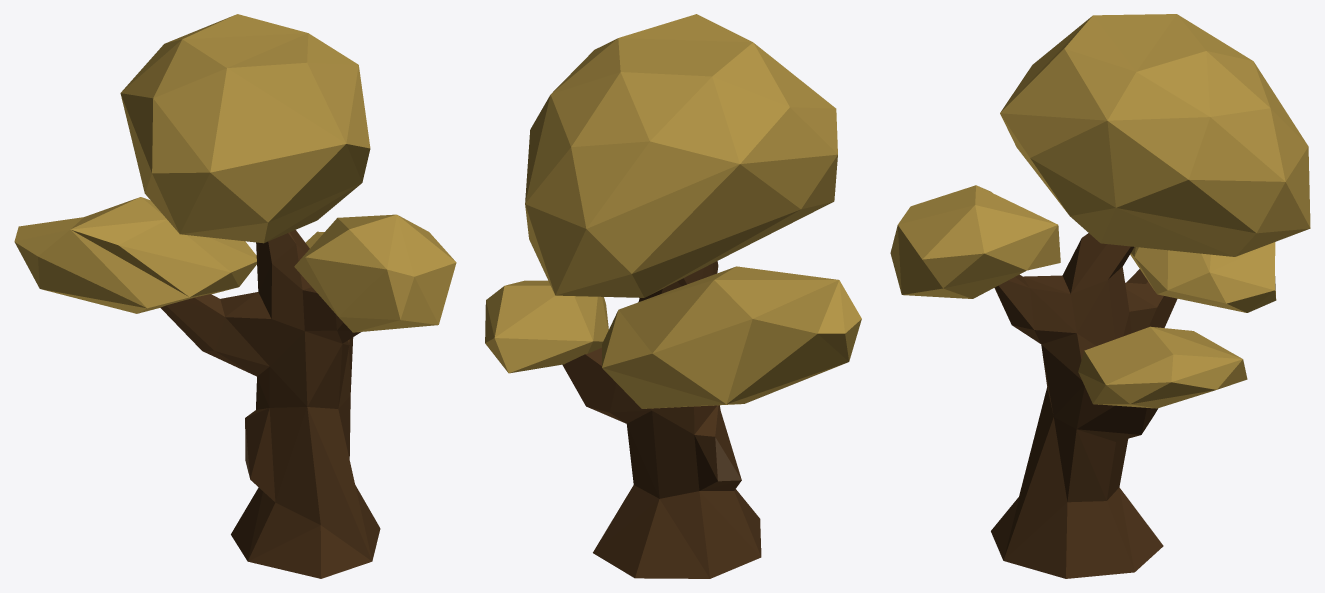
Rendered from co_Tree14_B.fbx.
The picture shows the model from 3 angles, left to right: view 1: azimuth 30°, elevation 25°; view 2: azimuth 150°, elevation 25°; view 3: azimuth 270°, elevation 25°; orthographic projection. The views are drawn at different scales.
Visible parts, largest first — view 1: Tree14_B_LOD0; view 2: Tree14_B_LOD0; view 3: Tree14_B_LOD0.
Boxes of the visible parts, left/top/right/bottom form: Tree14_B_LOD0: left=14, top=14, right=456, bottom=578; Tree14_B_LOD0: left=485, top=14, right=861, bottom=578; Tree14_B_LOD0: left=890, top=14, right=1310, bottom=578.
Size of what is drawn, in the model's own units: 31.64 by 41.34 by 31.78.
